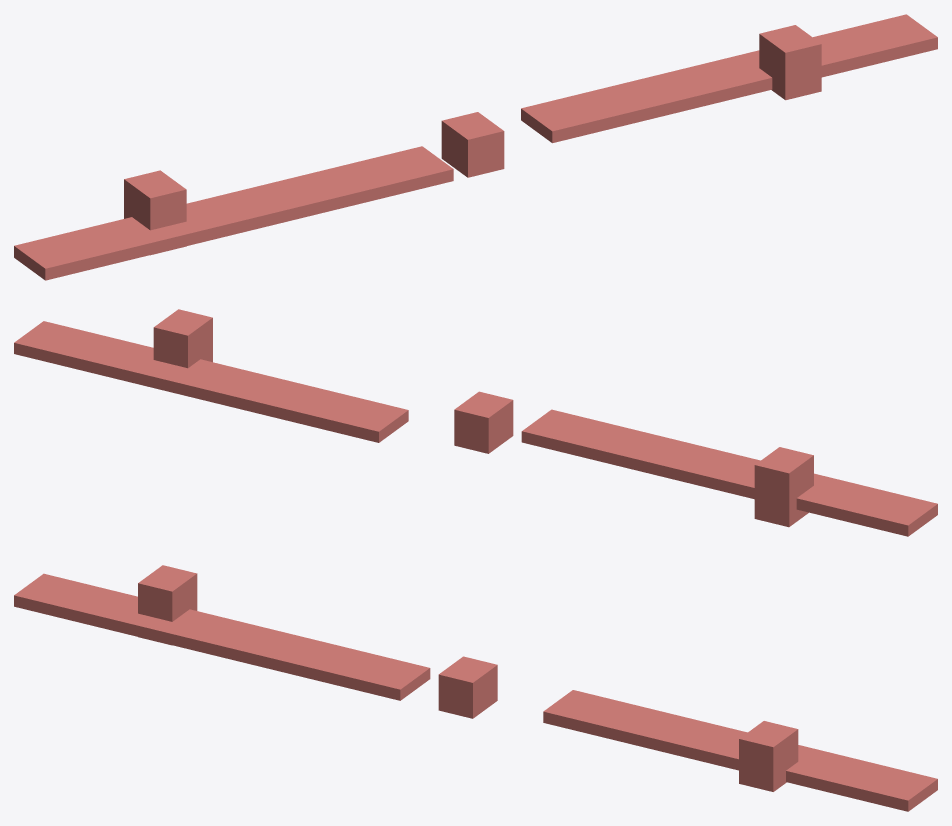
File: bridge.failed.gltf
3 views of the same model, one above another, from view 1: azimuth 30°, elevation 25°; view 2: azimuth 150°, elevation 25°; view 3: azimuth 330°, elevation 25° (orthographic). The views are drawn at different scales.
Size of the model in its own units: 202 by 12 by 22.
